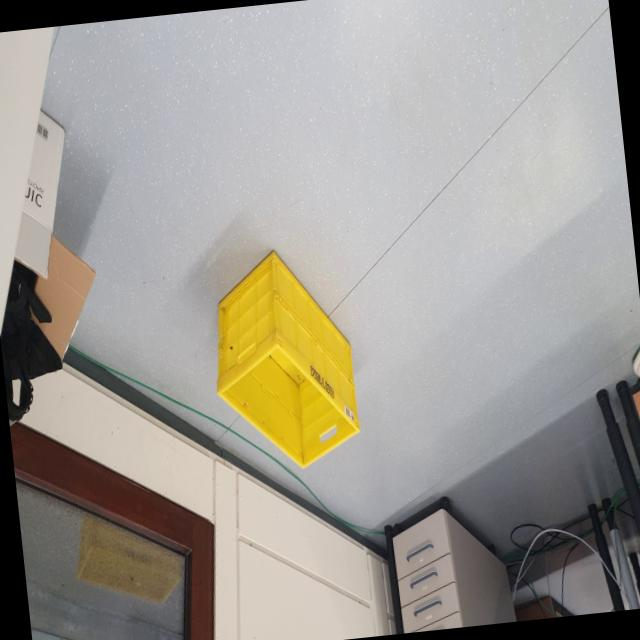box: (192, 224, 370, 483)
